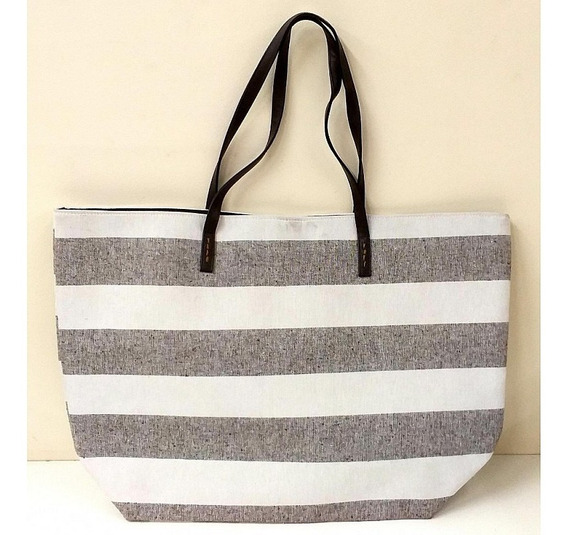cartera: (49, 11, 513, 524)
